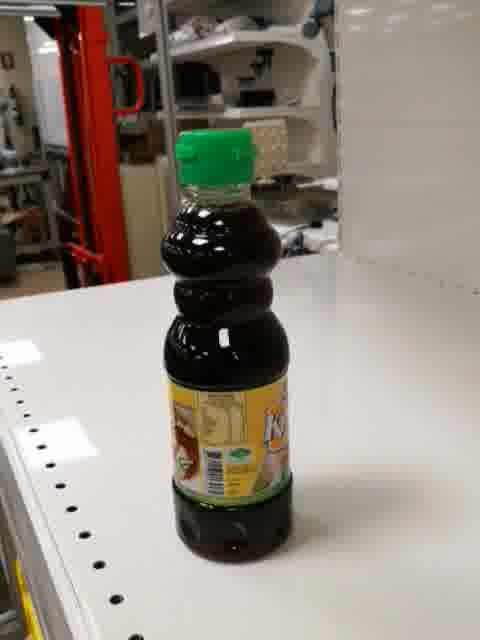cookingoil: (158, 124, 294, 568)
